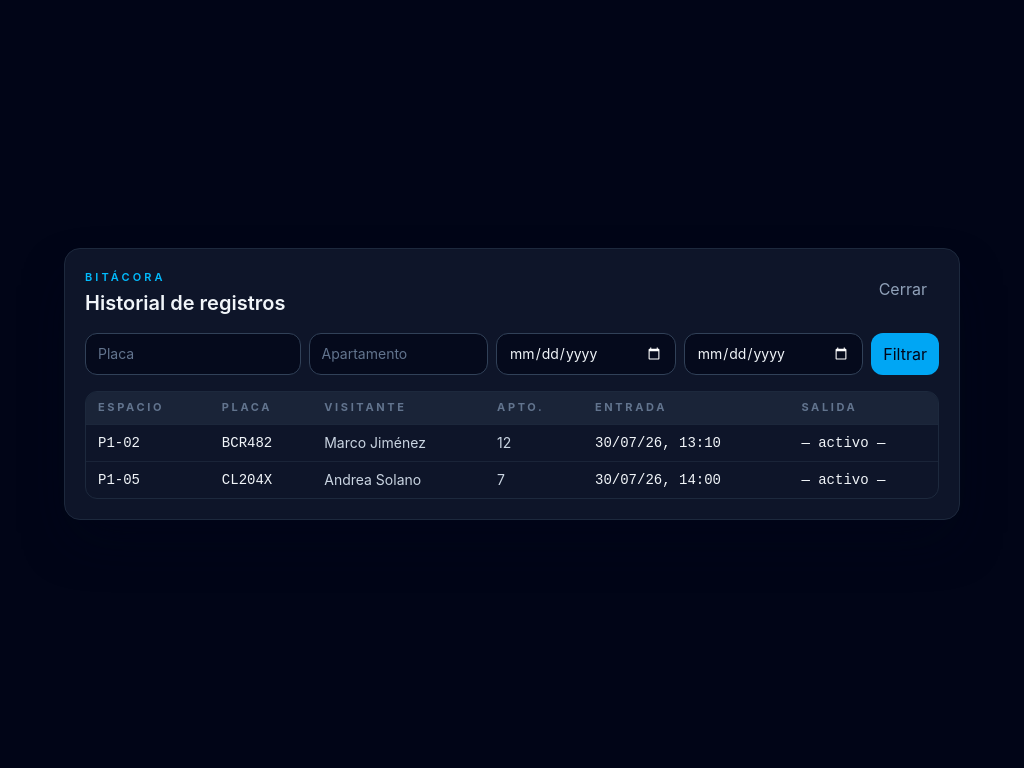
Test: HistoryPanel › C10: al filtrar por apartamento, consulta solo ese apartamento y muestra solo su fila
Expected: the text "Marco Jiménez" is shown, [312, 425, 485, 462]
Expected: the text "Andrea Solano" is shown, [312, 462, 485, 498]
Type "12" into the number field with placeholder "Apartamento" at (398, 354), box [308, 333, 488, 375]
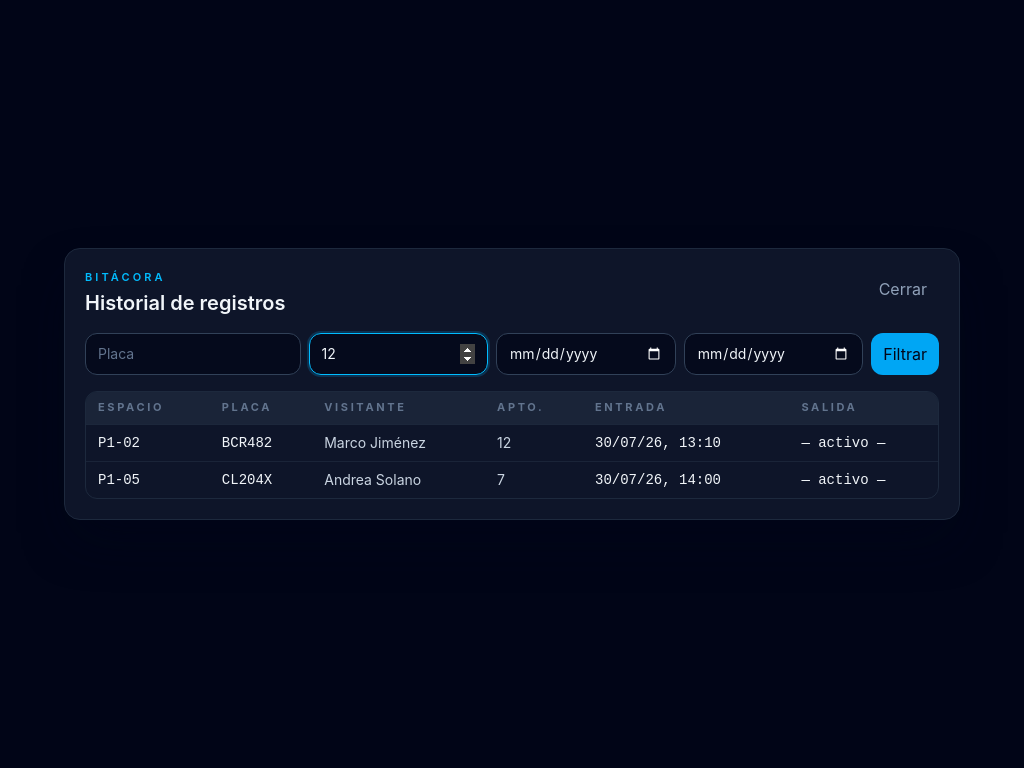
Click the button "Filtrar" at (905, 354), box [871, 333, 939, 375]
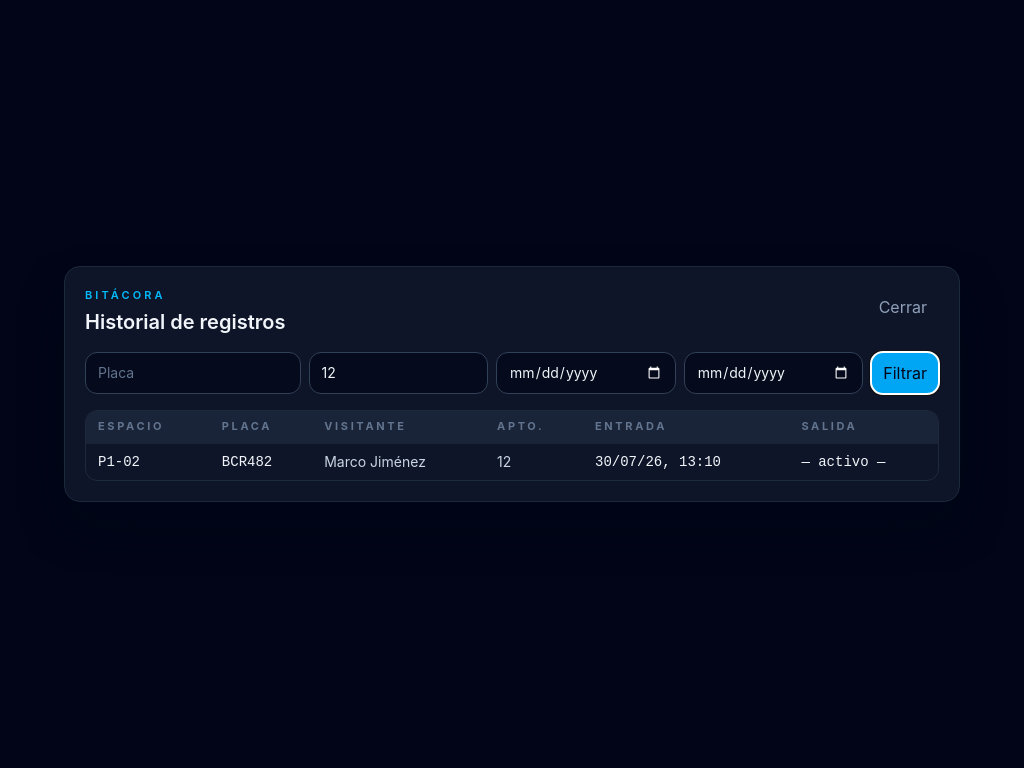
Expected: the text "Marco Jiménez" is shown, [312, 443, 485, 480]
Result: the text "Andrea Solano" is gone
